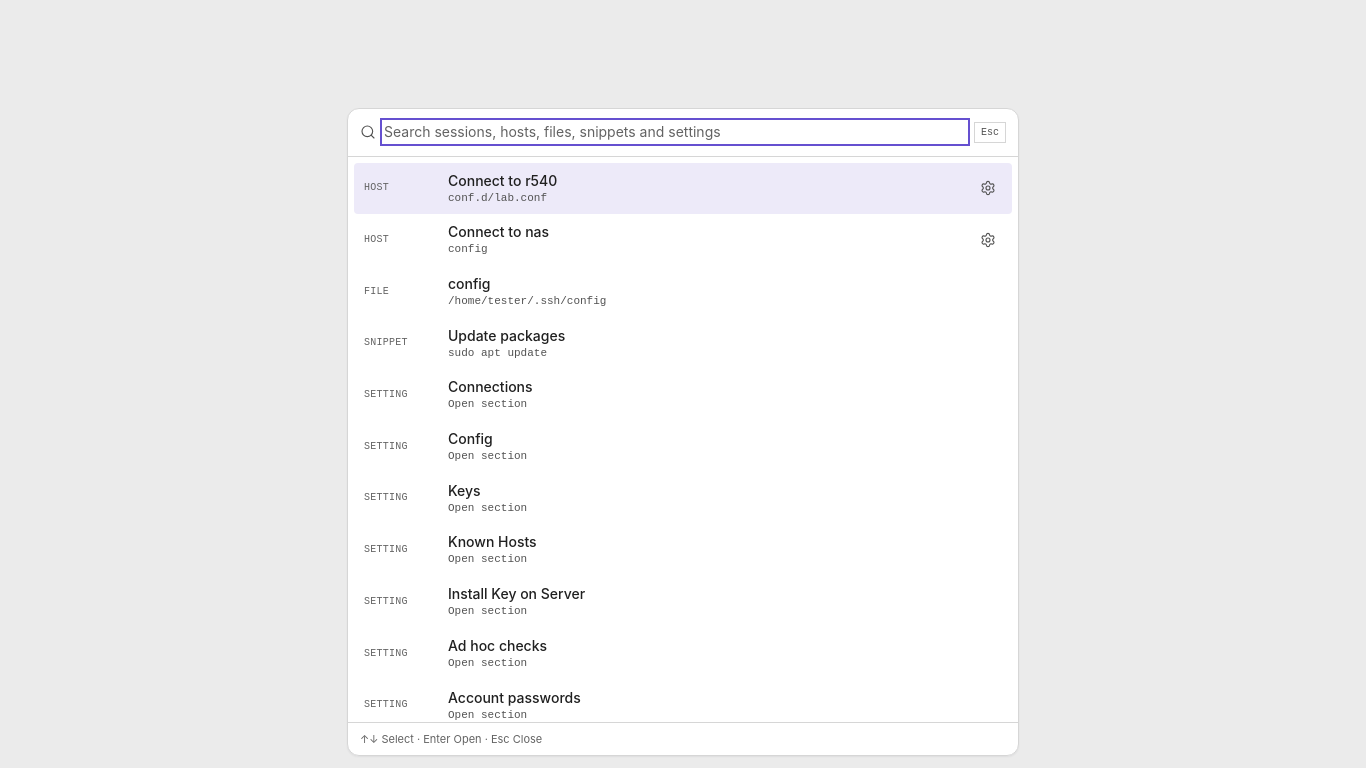
Test case: CommandPalette › searches hosts, files, snippets and settings without persisting the query
Check: the option "Host Connect to r540 conf.d/lab.conf" is shown, box [354,162,1012,214]
Type "apt update" into the search field named "Search sessions, hosts, files, snippets and settings" at x=675, y=132, box [384,122,966,142]
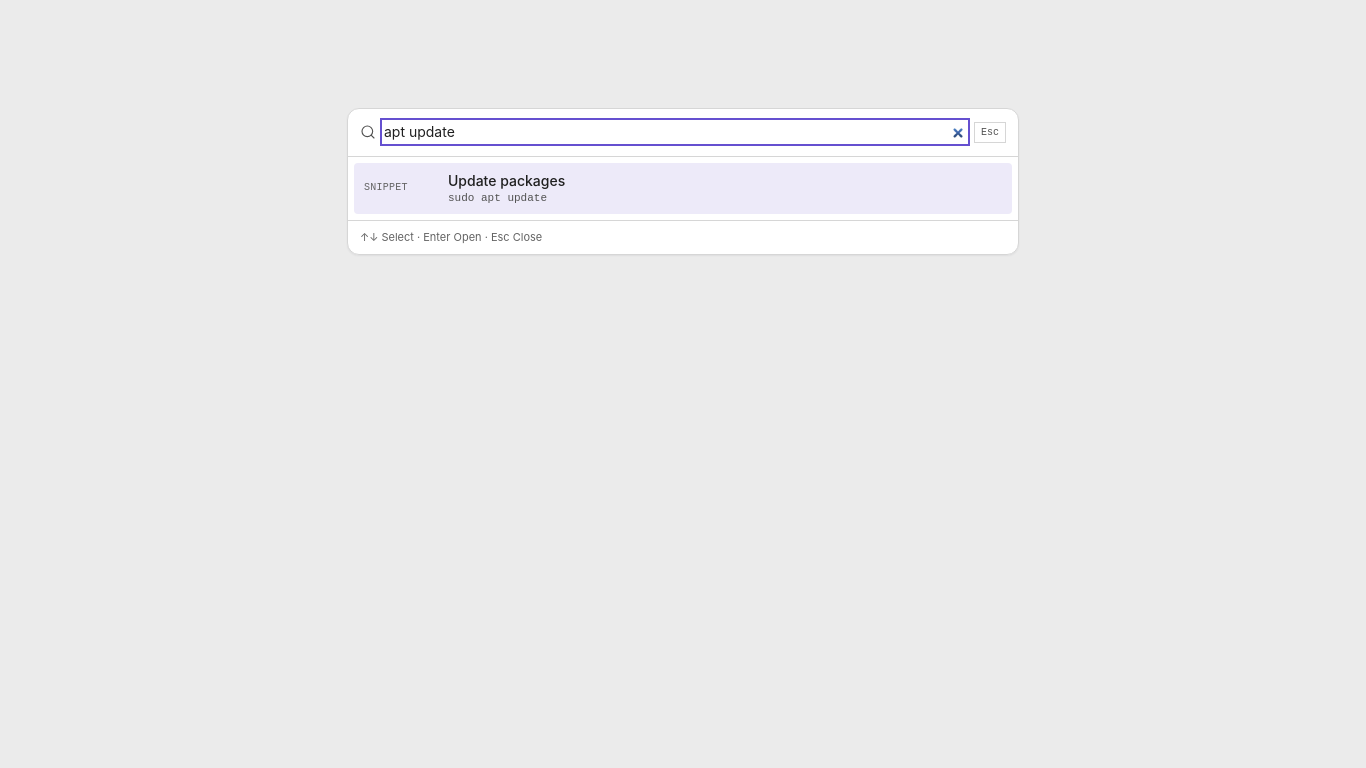
Check: the option "Snippet Update packages sudo apt update" is shown, box [354,162,1012,214]
Check: the option "Connect to r540" is gone
